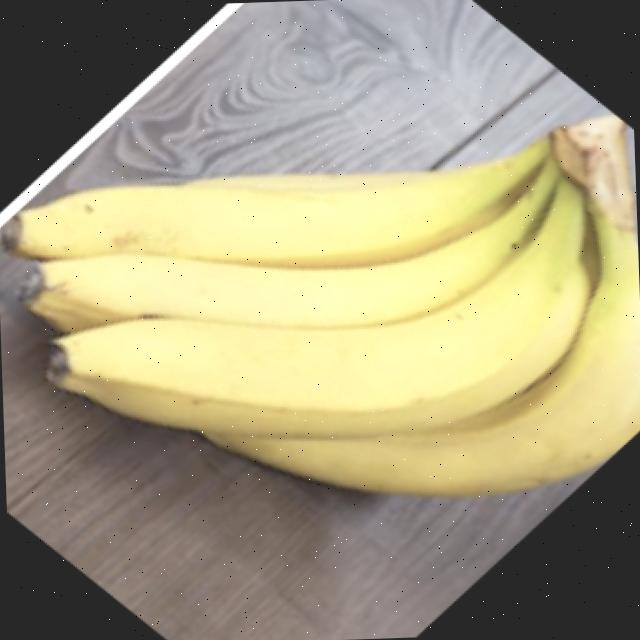banana: (0, 55, 640, 572)
